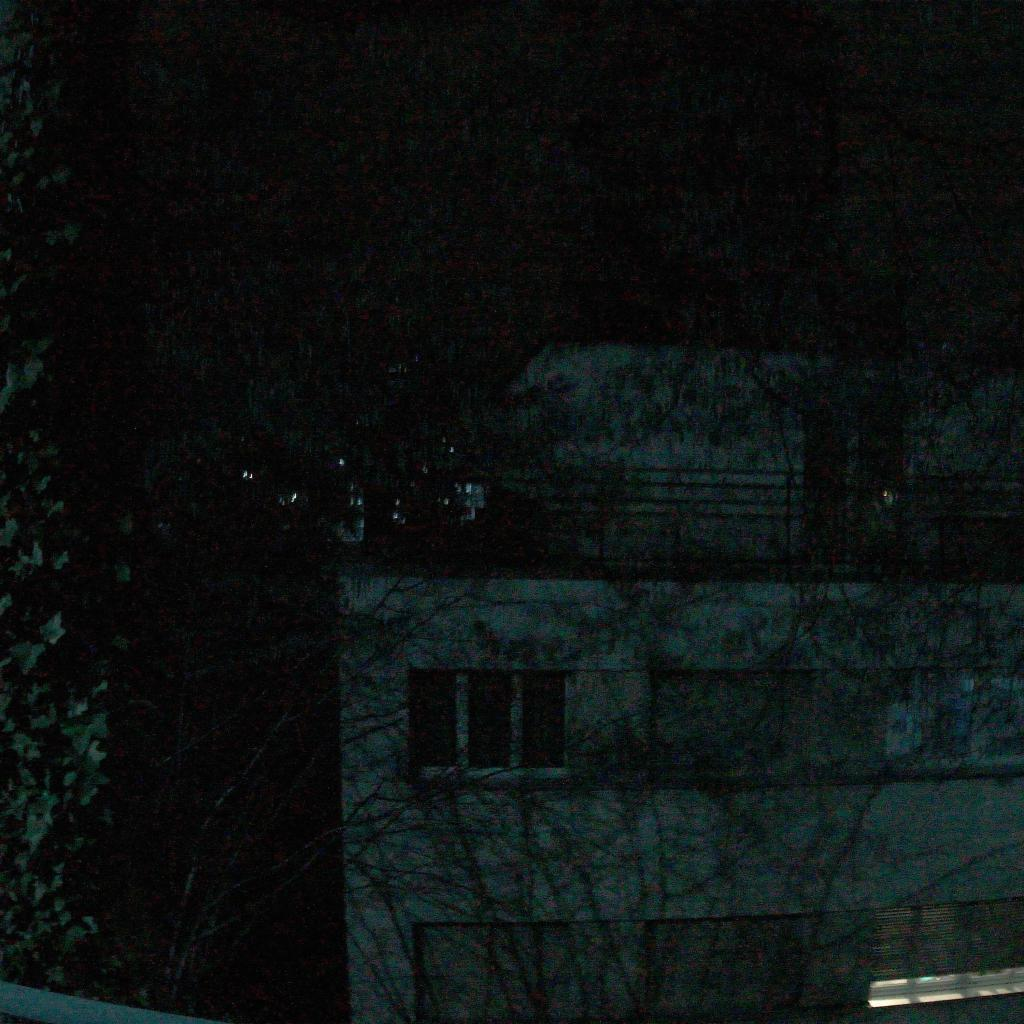balcony-fence: (343, 460, 1022, 583)
facade: (337, 334, 1024, 1024)
vegetation: (0, 0, 1024, 1024)
window: (404, 667, 569, 784), (650, 669, 816, 784), (867, 896, 1022, 1010), (643, 913, 801, 1021), (415, 923, 567, 1024), (885, 668, 1022, 770)
